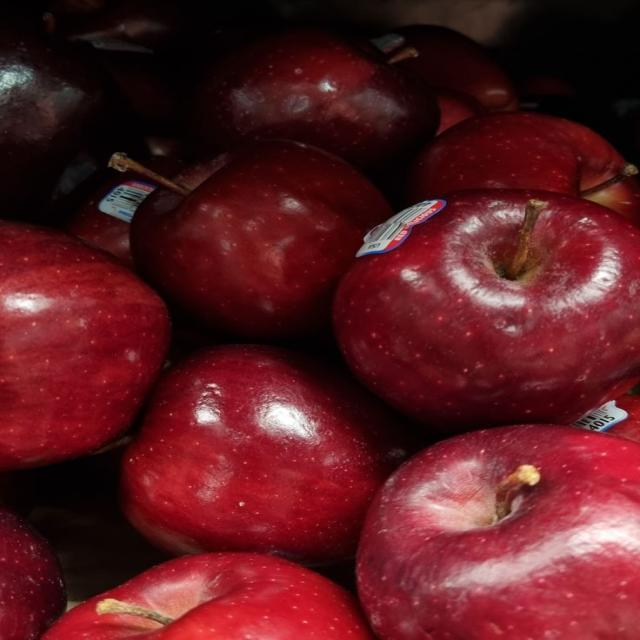apple: (334, 190, 639, 432), (121, 345, 412, 564), (358, 425, 639, 639), (131, 141, 392, 340), (0, 222, 169, 470), (192, 29, 439, 168), (43, 553, 373, 639), (0, 12, 127, 220), (408, 112, 639, 224), (373, 25, 518, 111), (63, 171, 158, 268), (0, 507, 65, 639), (573, 394, 639, 442), (435, 89, 486, 135)
